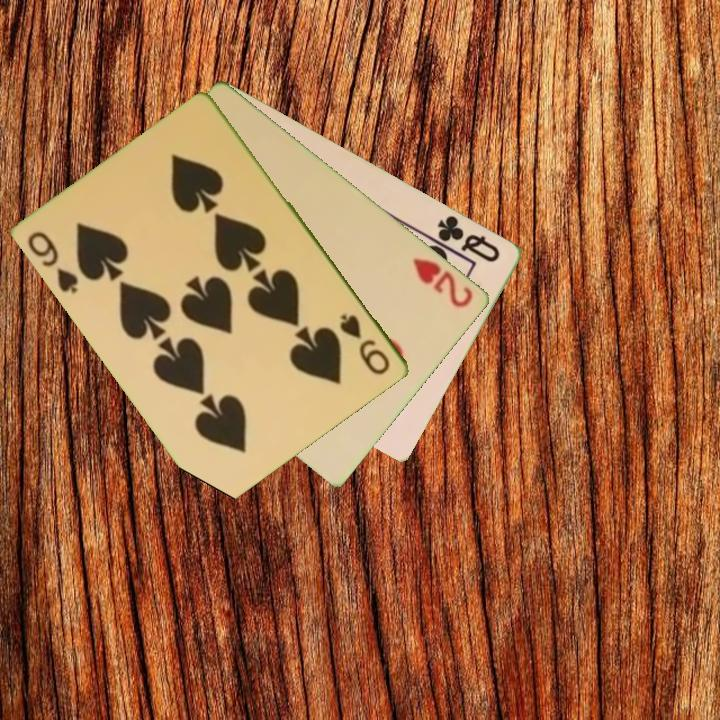2h: (409, 254, 477, 311)
9s: (24, 228, 82, 297), (336, 310, 394, 378)
Qc: (426, 211, 504, 265)
